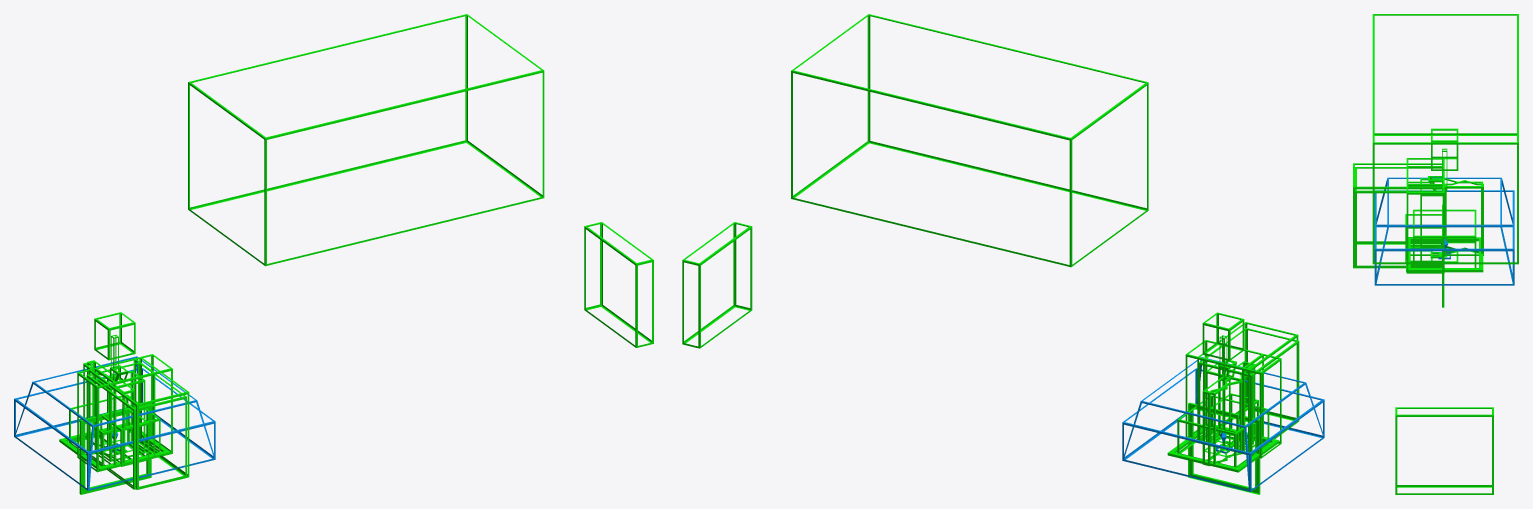
File: Dummy_Objects.FBX
3 renders of one model, left to right at view 1: azimuth 30°, elevation 25°; view 2: azimuth 150°, elevation 25°; view 3: azimuth 270°, elevation 25°, orthographic. The views are drawn at different scales.
Parts seen in each view (by area): view 1: Dummy_StartRoom, Dummy_Audio_Scare, Dummy_Beds, Dummy_Elevator, Dummy_Shadow_Scare, Dummy_Stall, Dummy_Wall_Objects, Dummy_Posters, Dummy_Wall_Bath_Small, Dummy_Sink, Dummy_Lights, Dummy_Decals (+1 smaller); view 2: Dummy_StartRoom, Dummy_Audio_Scare, Dummy_Elevator, Dummy_Stall, Dummy_Wall_Objects, Dummy_Shadow_Scare, Dummy_Posters, Dummy_Beds, Dummy_PaddedDoor, Dummy_KitTable, Dummy_Lights, Dummy_Decals (+2 smaller); view 3: Dummy_StartRoom, Dummy_Audio_Scare, Dummy_Elevator, Dummy_Shadow_Scare, Dummy_Beds, Dummy_Stall, Dummy_Wall_Objects, Dummy_KitTable, Dummy_Decals, Dummy_FoyerDoors, Dummy_Lights, Dummy_Wall_Bath_Small (+3 smaller).
Boxes of the visible parts, x1,y1,x2,y2 form: Dummy_StartRoom: [188, 14, 544, 266]; Dummy_Audio_Scare: [14, 368, 215, 490]; Dummy_Beds: [88, 357, 189, 489]; Dummy_Elevator: [584, 222, 653, 347]; Dummy_Shadow_Scare: [15, 356, 213, 489]; Dummy_Stall: [86, 362, 186, 489]; Dummy_Wall_Objects: [77, 354, 172, 472]; Dummy_Posters: [79, 403, 151, 494]; Dummy_Wall_Bath_Small: [94, 358, 155, 465]; Dummy_Sink: [97, 370, 145, 461]; Dummy_Lights: [94, 312, 135, 455]; Dummy_Decals: [59, 422, 170, 471]; Dummy_StartRoom: [791, 14, 1148, 267]; Dummy_Audio_Scare: [1122, 368, 1324, 491]; Dummy_Elevator: [682, 222, 752, 348]; Dummy_Stall: [1198, 328, 1299, 455]; Dummy_Wall_Objects: [1185, 340, 1281, 458]; Dummy_Shadow_Scare: [1124, 357, 1323, 490]; Dummy_Posters: [1188, 402, 1260, 494]; Dummy_Beds: [1197, 322, 1298, 452]; Dummy_PaddedDoor: [1202, 376, 1230, 466]; Dummy_KitTable: [1177, 395, 1269, 467]; Dummy_Lights: [1202, 312, 1244, 457]; Dummy_Decals: [1167, 424, 1279, 472]; Dummy_StartRoom: [1372, 14, 1518, 264]; Dummy_Audio_Scare: [1374, 190, 1514, 285]; Dummy_Elevator: [1395, 407, 1493, 494]; Dummy_Shadow_Scare: [1376, 177, 1513, 285]; Dummy_Beds: [1353, 163, 1444, 268]; Dummy_Stall: [1355, 167, 1442, 266]; Dummy_Wall_Objects: [1406, 158, 1444, 273]; Dummy_KitTable: [1413, 209, 1476, 267]; Dummy_Decals: [1406, 237, 1483, 272]; Dummy_FoyerDoors: [1408, 178, 1482, 255]; Dummy_Lights: [1431, 128, 1458, 262]; Dummy_Wall_Bath_Small: [1406, 166, 1444, 265].
Size of the model in its own units: 1954 by 1124 by 513.
